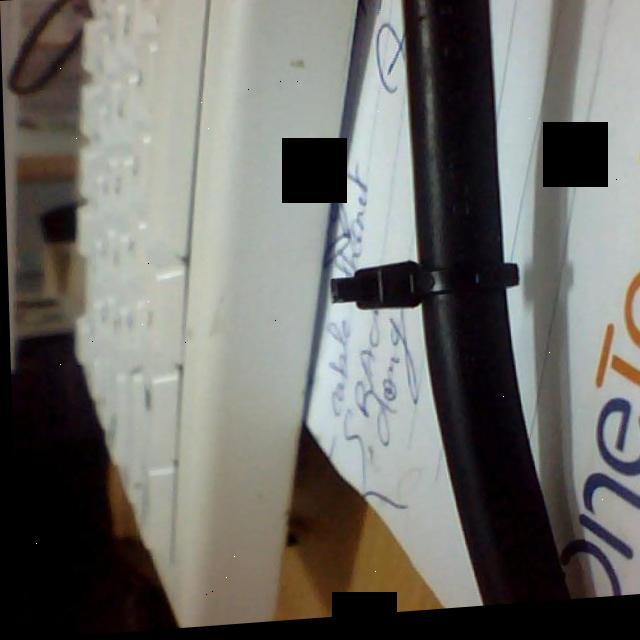cable-tie: (327, 267, 517, 315)
